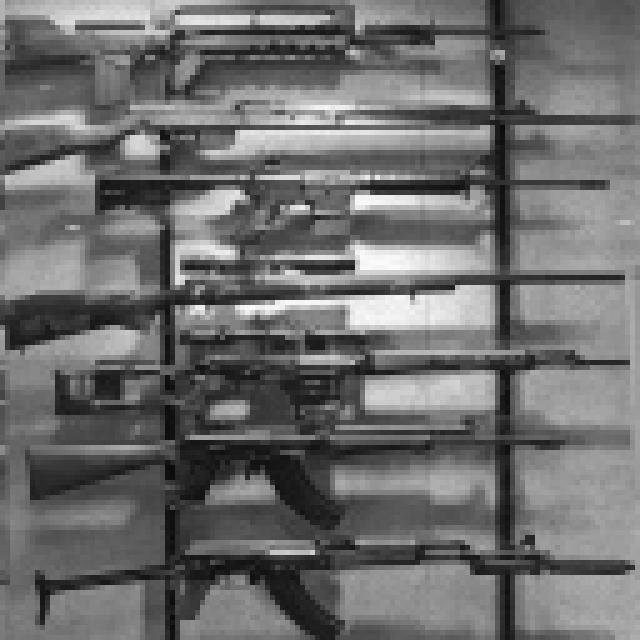Rifle: (5, 490, 640, 640), (0, 223, 640, 367), (4, 405, 638, 530), (0, 0, 550, 120), (99, 148, 636, 258), (50, 305, 640, 405), (0, 88, 640, 179)
